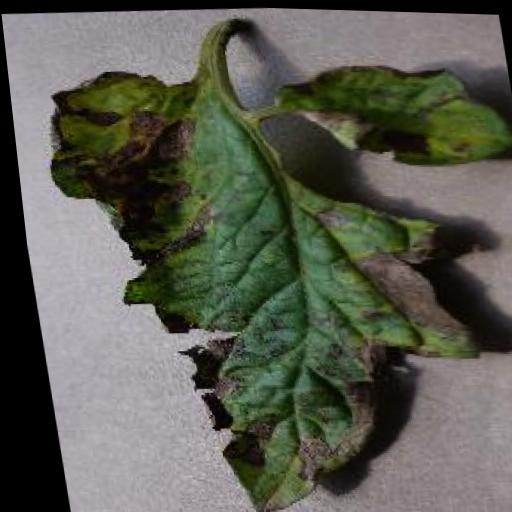Early Blight: (24, 46, 512, 512)
